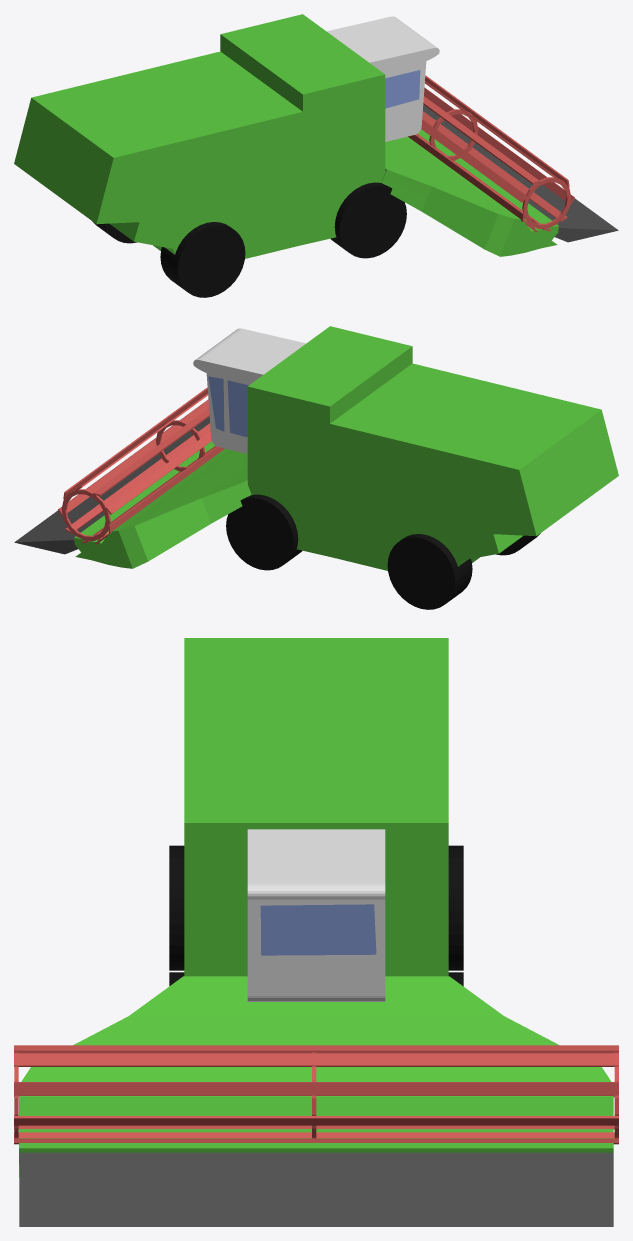
The model's file is tractor.fbx.
3 views of the same model, one above another, from view 1: azimuth 30°, elevation 25°; view 2: azimuth 150°, elevation 25°; view 3: azimuth 270°, elevation 25° (orthographic). The views are drawn at different scales.
Visible parts, largest first — view 1: tractor; view 2: tractor; view 3: tractor.
Boxes of the visible parts, x1,y1,x2,y2 form: tractor: [14, 14, 618, 297]; tractor: [14, 326, 618, 609]; tractor: [14, 638, 618, 1226].
Bounding box in the file's own units: 1268 × 451 × 879.
